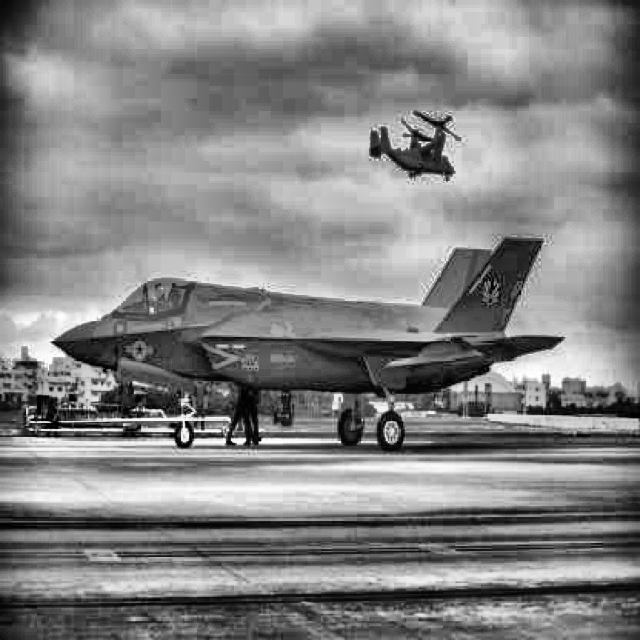F35: (50, 237, 565, 452)
V22: (369, 111, 460, 180)
